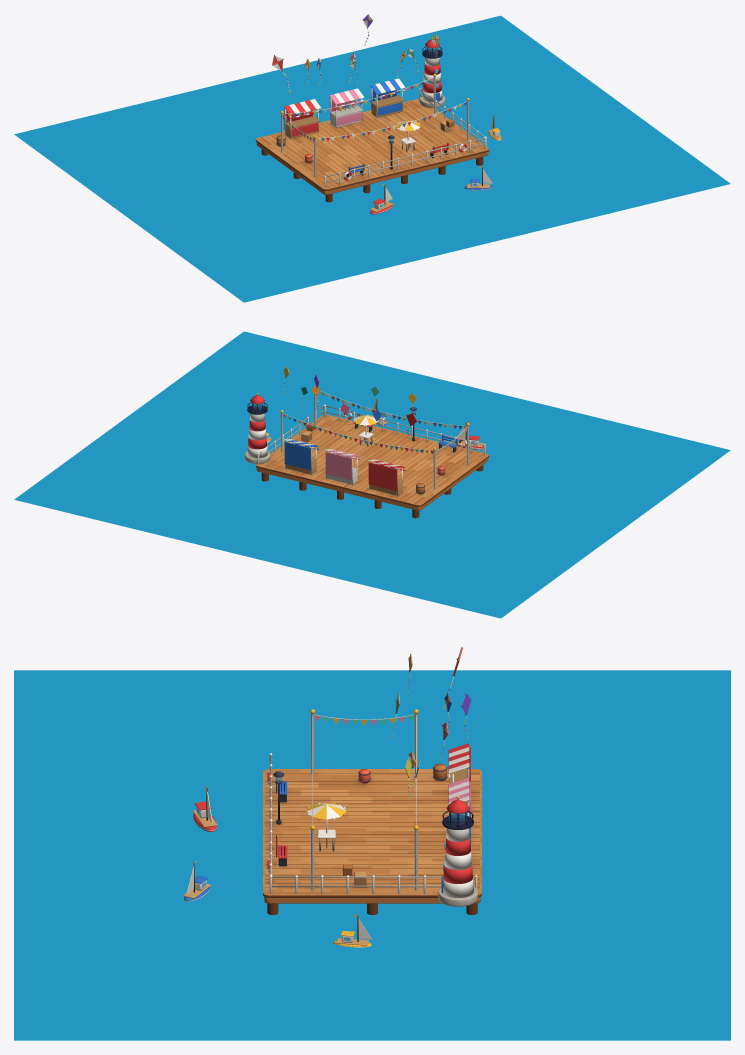
Rendered from pier.glb.
3 views of the same model, one above another, from view 1: azimuth 30°, elevation 25°; view 2: azimuth 150°, elevation 25°; view 3: azimuth 270°, elevation 25° (orthographic). The views are drawn at different scales.
Parts seen in each view (by area): view 1: pier_Water, pier_Satin, pier_Gloss, pier_Matte; view 2: pier_Water, pier_Satin, pier_Gloss, pier_Matte; view 3: pier_Water, pier_Satin, pier_Matte, pier_Gloss.
Part boxes in pixels (box(x1,y1,x2,y2)): pier_Water: box(14, 15, 730, 302); pier_Satin: box(256, 47, 488, 202); pier_Gloss: box(280, 39, 484, 182); pier_Matte: box(255, 99, 489, 190); pier_Water: box(14, 331, 730, 618); pier_Satin: box(244, 391, 488, 518); pier_Gloss: box(247, 394, 483, 489); pier_Matte: box(255, 414, 489, 506); pier_Water: box(14, 670, 730, 1040); pier_Satin: box(264, 714, 480, 914); pier_Matte: box(263, 769, 481, 897); pier_Gloss: box(267, 709, 474, 897).
Bounding box in the file's own units: 44 × 11.95 × 36.
